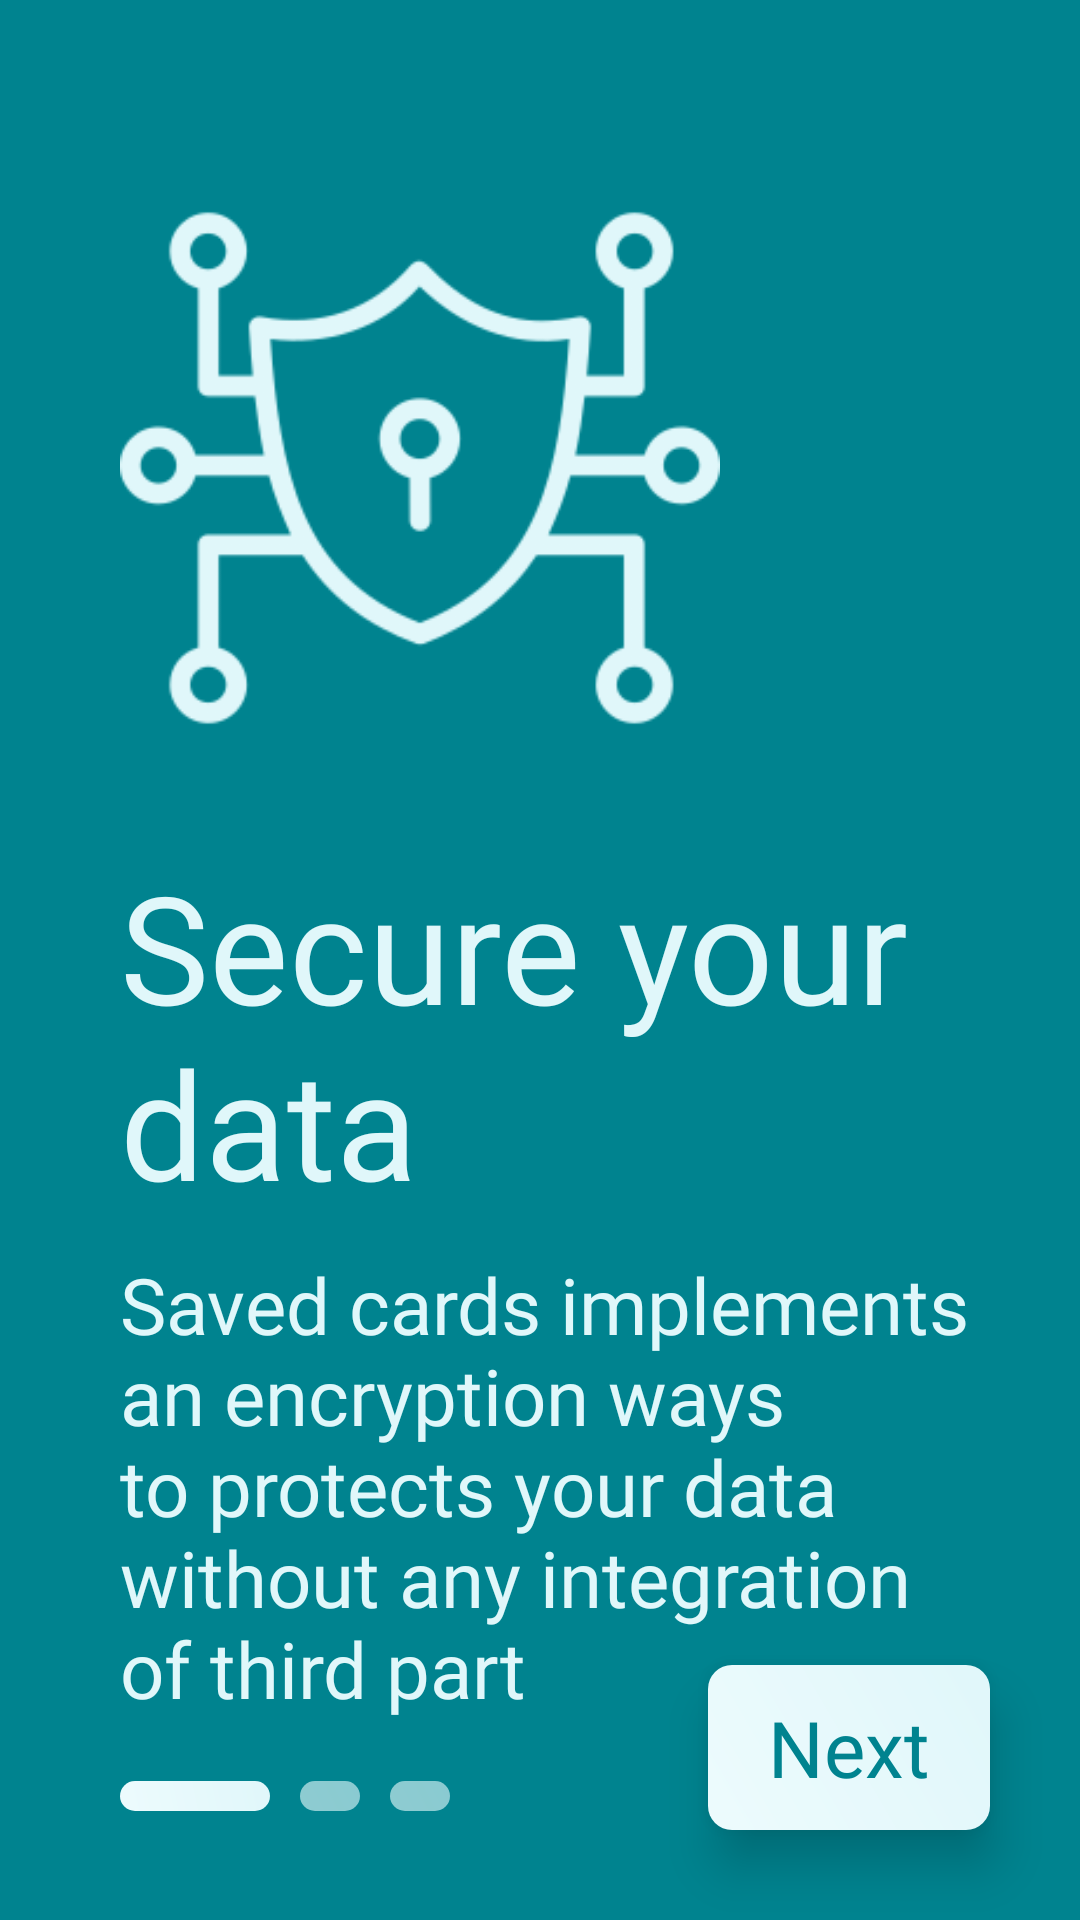

Where icons sit on this 1080×1920 app screen, as rect(x1, y1, x2, y2):
step off: rect(300, 1781, 360, 1811), rect(390, 1781, 450, 1811)
step on: rect(120, 1781, 270, 1811)
